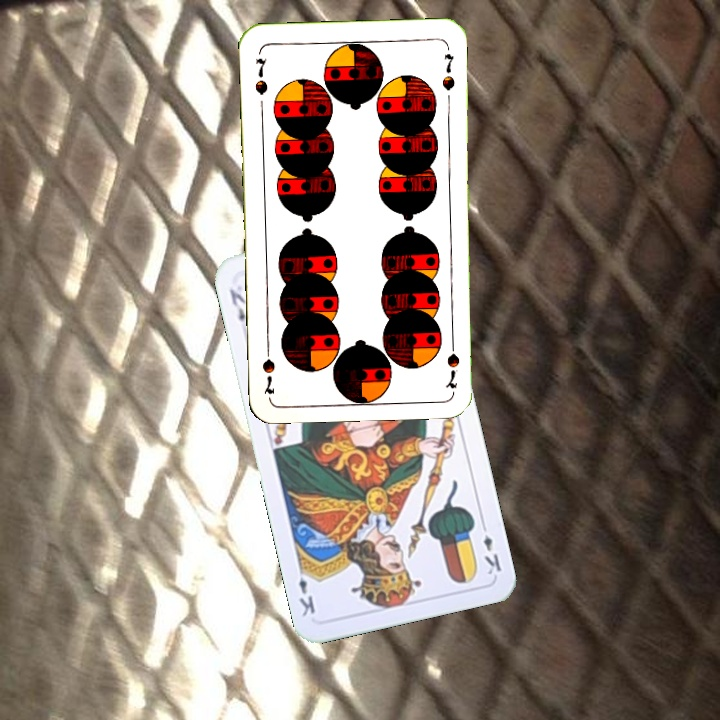EK: (477, 518, 504, 577), (225, 284, 248, 325)
S7: (441, 333, 463, 391), (251, 54, 271, 97)
